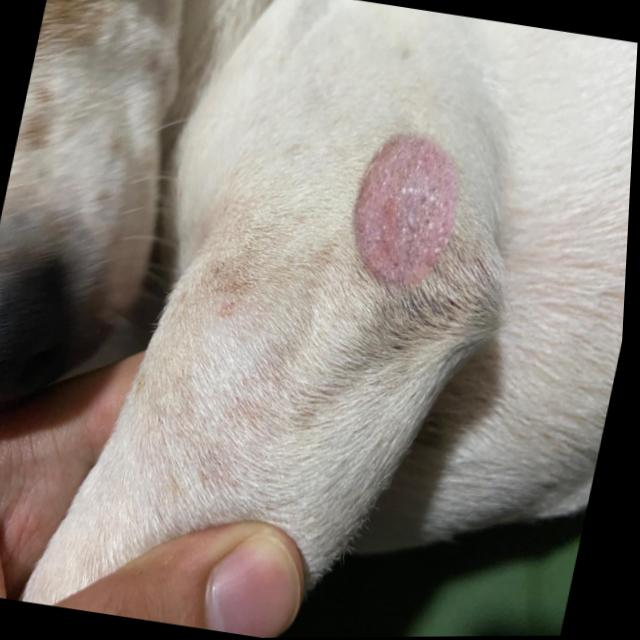ringworm: (314, 89, 483, 298)
